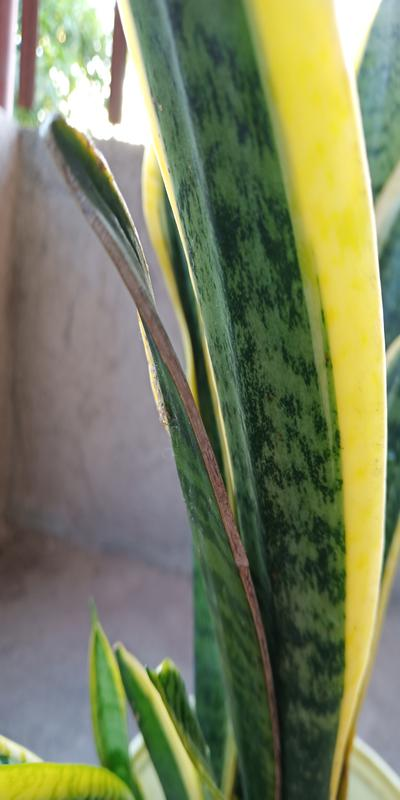Snake plant: (71, 26, 392, 774)
